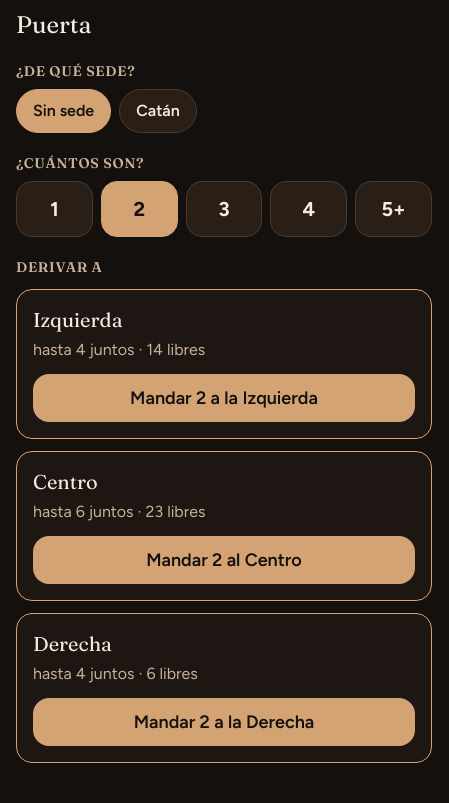
PuertaView › sedes › sectores › con un único sector null queda el texto de la Etapa 2
Step 1. Click the button "Catán" → click(158, 111), box [119, 89, 197, 133]
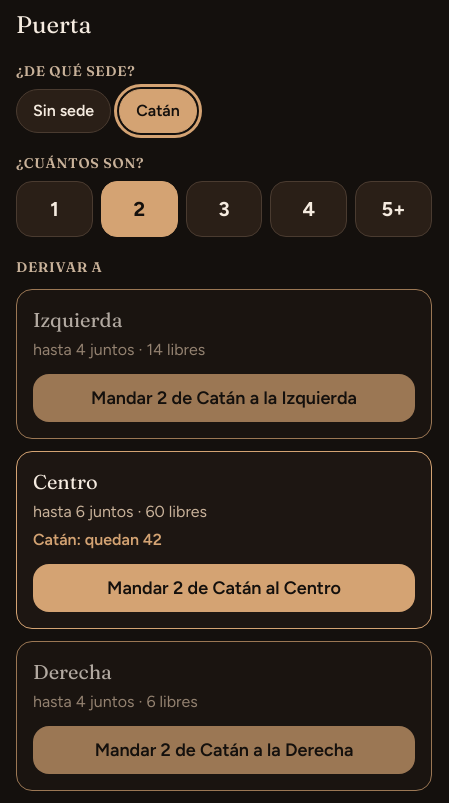
Now the text "Catán: quedan 42" is shown, box [33, 530, 162, 549]
